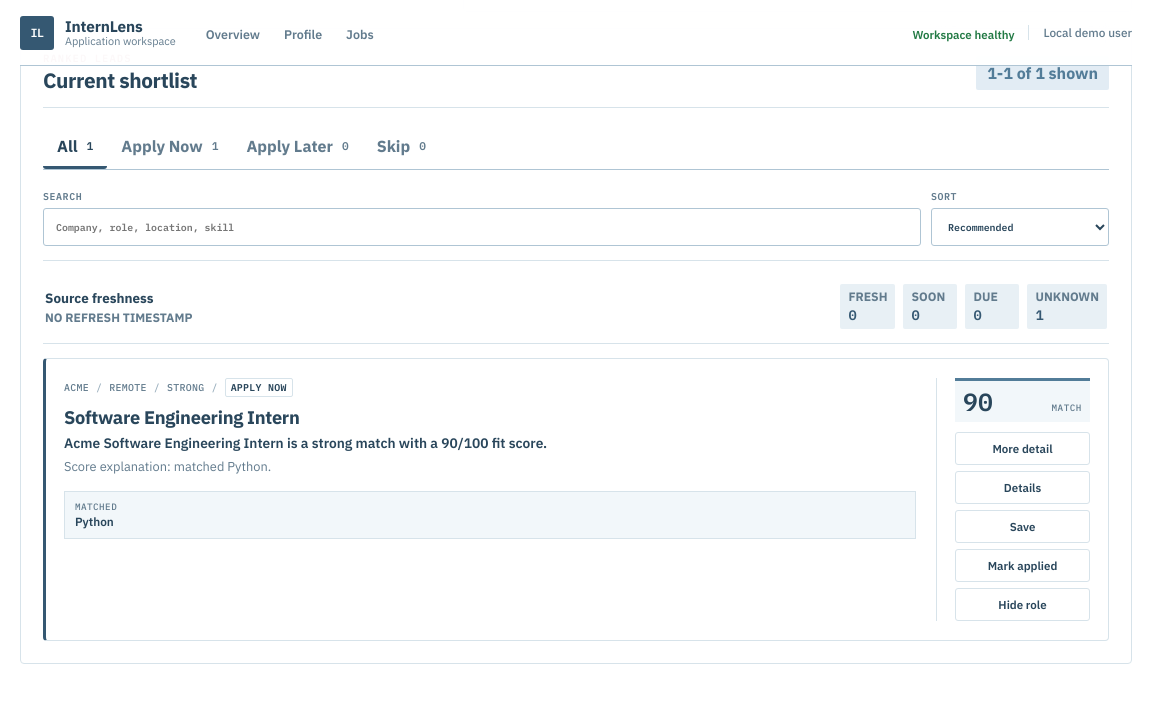
Test: workspace interactions › saves, applies, hides and restores a job through the API
This screenshot has width=1152, height=714.
(page scrolled)
Check: the heading "Software Engineering Intern" is shown, box [64,405,300,429]
Click the button "Save": (1022, 527) [955,510,1090,543]
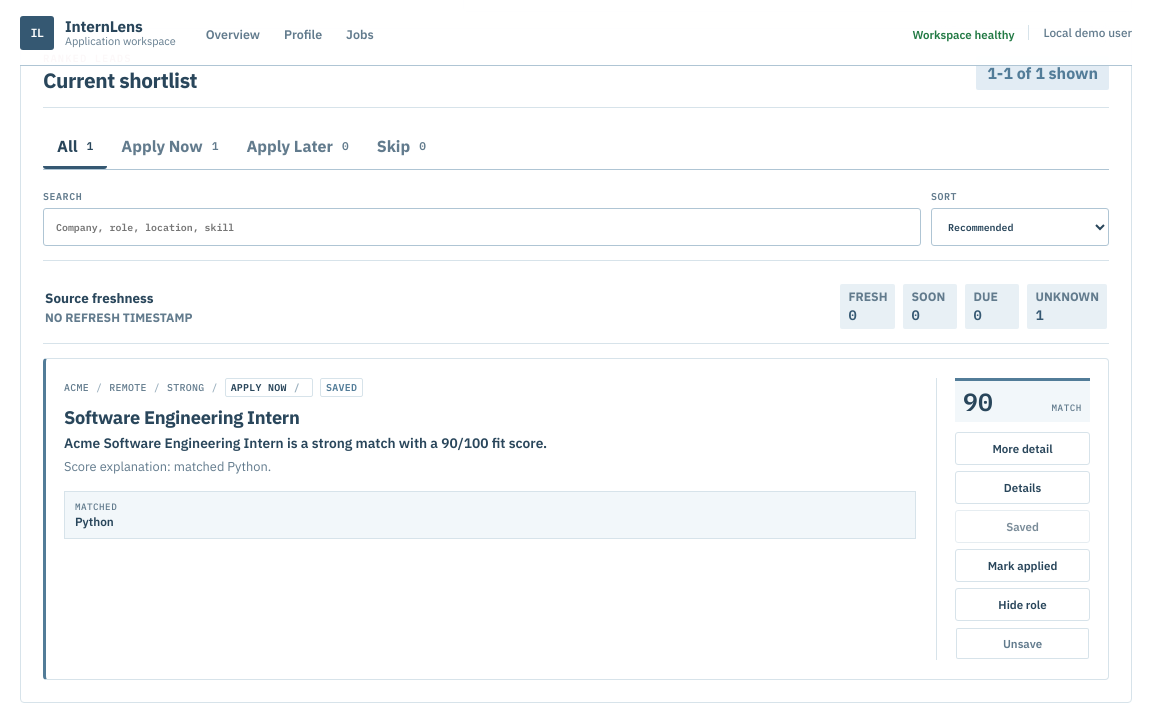
Check: the button "Saved" is disabled, box [955,510,1090,543]
Click the button "Mark applied": (1022, 566) [955,549,1090,582]
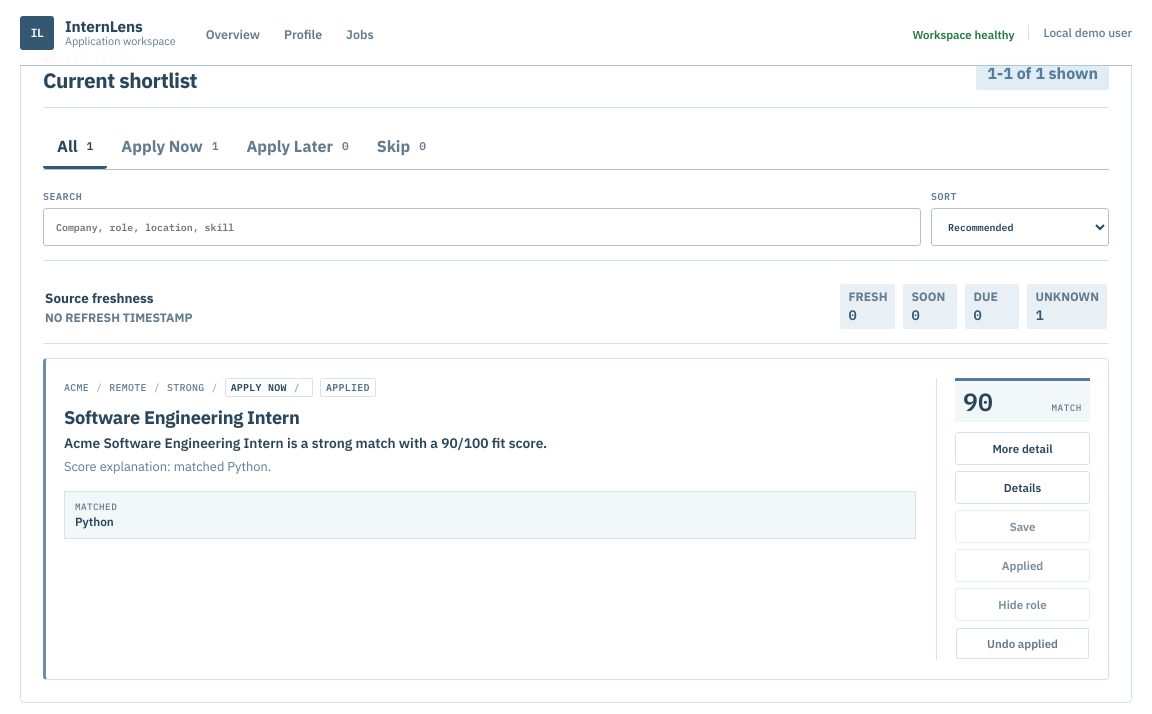
Check: the button "Applied" is disabled, box [955,549,1090,582]
Click the button "Undo applied": (1022, 644) [955,627,1090,660]
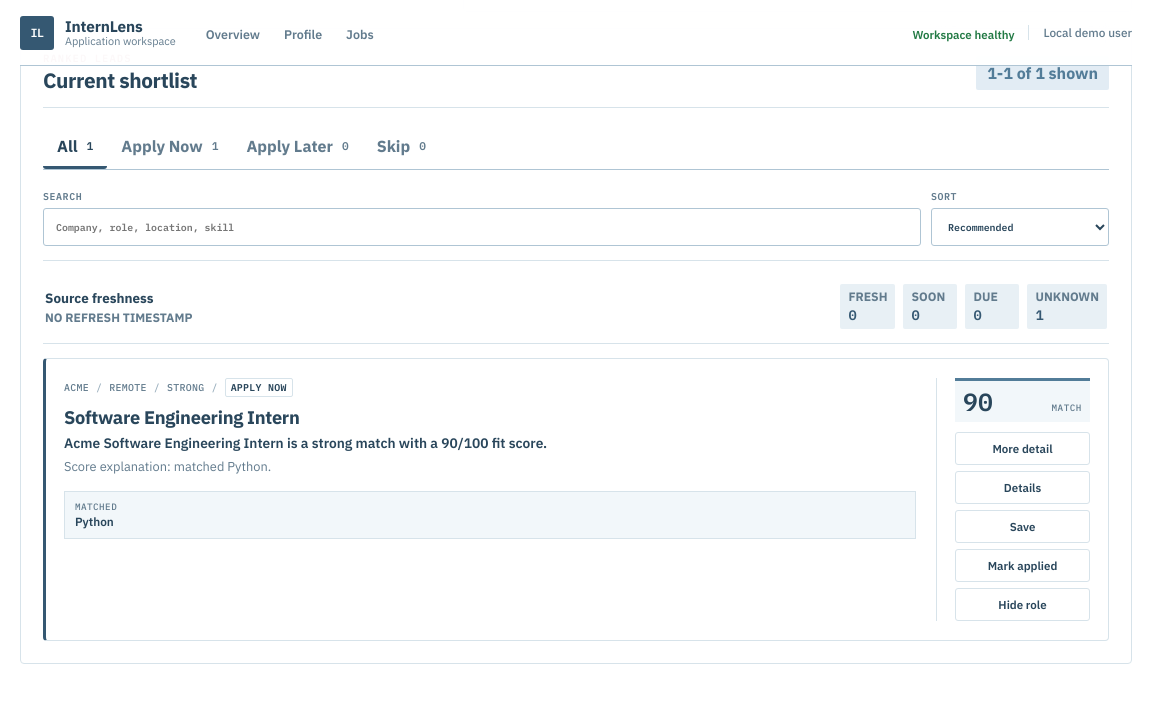
Check: the button "Hide role" is enabled
Click the button "Hide role": (1022, 605) [955,588,1090,621]
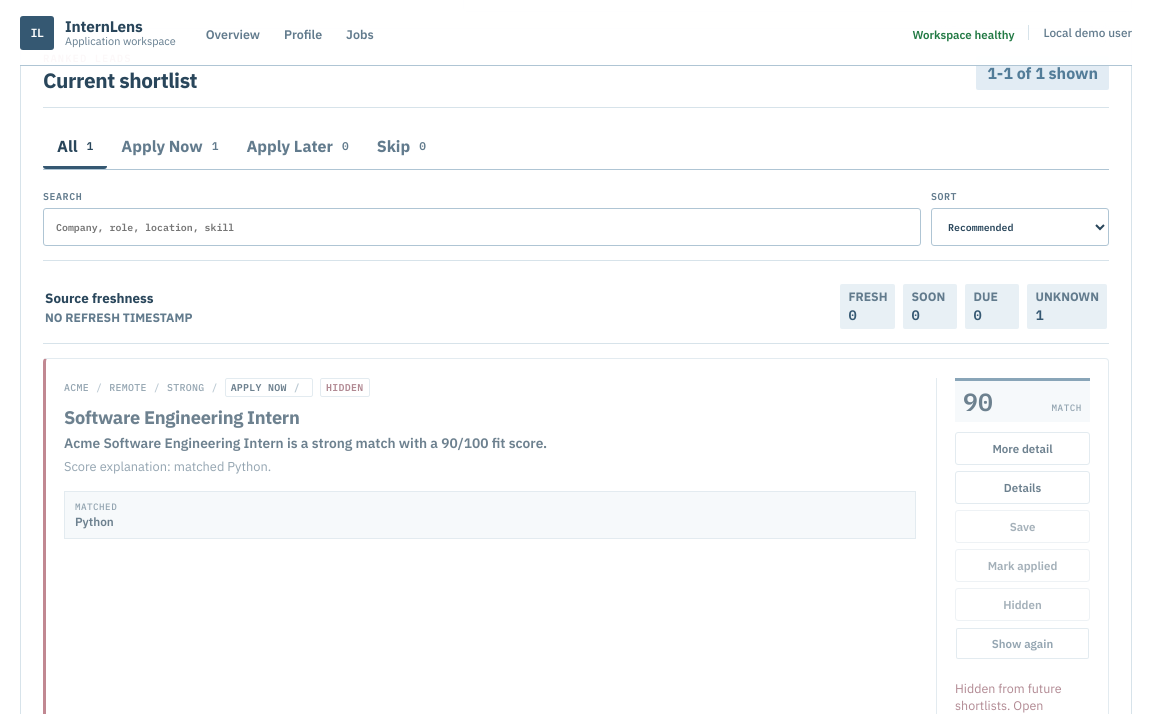
Check: the button "Hidden" is disabled, box [955,588,1090,621]
Click the button "Show again": (1022, 644) [955,627,1090,660]
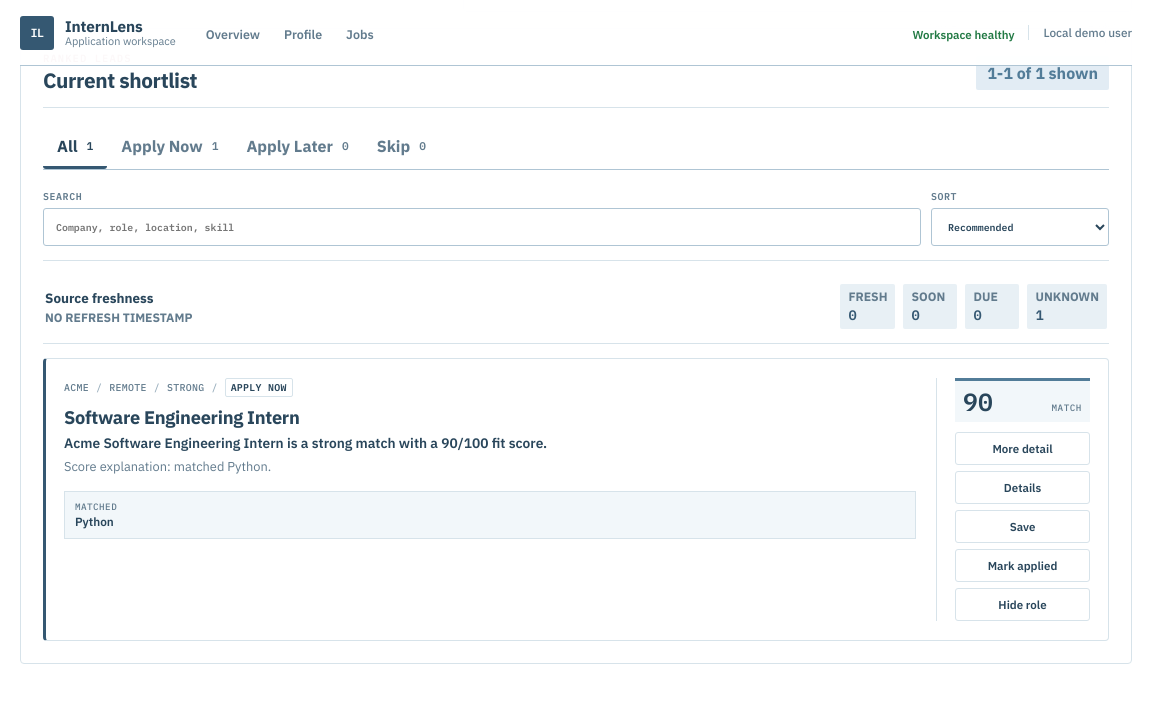
Check: the button "Save" is enabled, box [955,510,1090,543]
